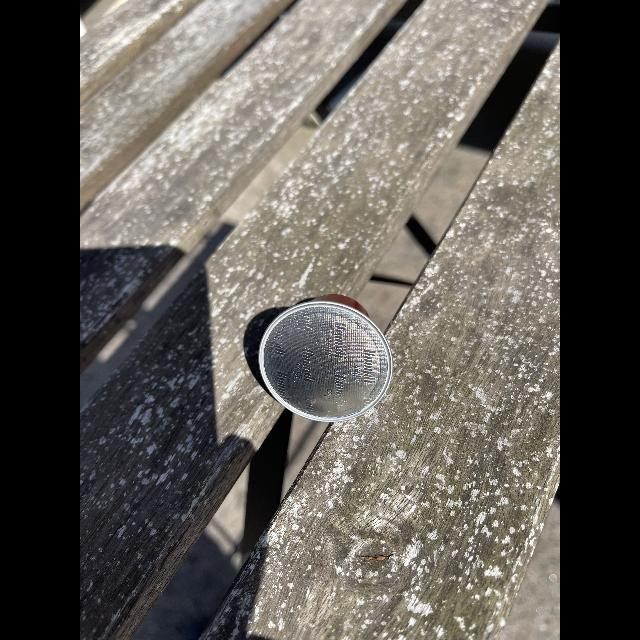intact_capsule: (248, 283, 404, 427)
